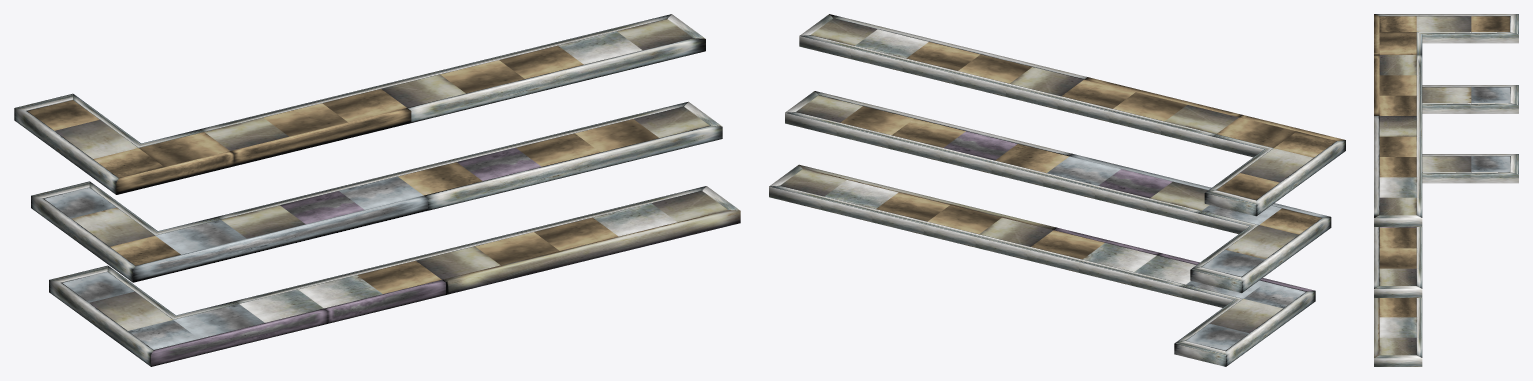
File: disco_bar_rack.DAE
3 views of the same model, side by side, from view 1: azimuth 30°, elevation 25°; view 2: azimuth 150°, elevation 25°; view 3: azimuth 270°, elevation 25° (orthographic). The views are drawn at different scales.
Parts seen in each view (by area): view 1: Box03; view 2: Box03; view 3: Box03.
Boxes of the visible parts, x1,y1,x2,y2 form: Box03: (14, 14, 740, 366); Box03: (769, 14, 1345, 366); Box03: (1374, 14, 1518, 366).
Bounding box in the file's own units: 5.29 × 1.56 × 1.5.
